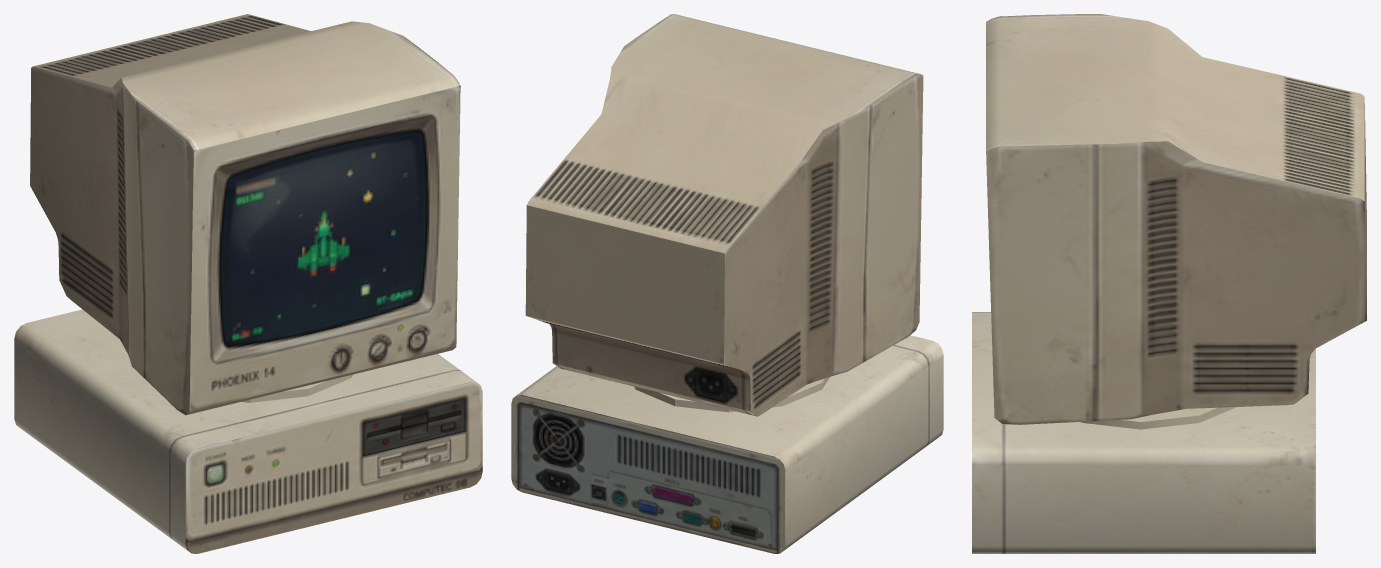
Rendered from Simple_Computer_Placeholder.glb.
The picture shows the model from 3 angles, left to right: view 1: azimuth 30°, elevation 25°; view 2: azimuth 150°, elevation 25°; view 3: azimuth 270°, elevation 25°; orthographic projection. The views are drawn at different scales.
Parts seen in each view (by area): view 1: Cube_Material_0, Cube.001_Material_0; view 2: Cube_Material_0, Cube.001_Material_0; view 3: Cube_Material_0, Cube.001_Material_0.
Part boxes in pixels (x1=…): Cube_Material_0: x1=30, y1=14, x2=460, y2=415; Cube.001_Material_0: x1=14, y1=309, x2=482, y2=553; Cube_Material_0: x1=525, y1=14, x2=923, y2=416; Cube.001_Material_0: x1=511, y1=335, x2=943, y2=553; Cube_Material_0: x1=986, y1=14, x2=1366, y2=429; Cube.001_Material_0: x1=972, y1=312, x2=1315, y2=553.
Size of the model in its own units: 4.02 by 5.24 by 4.61.
1 material, 1 textured.
